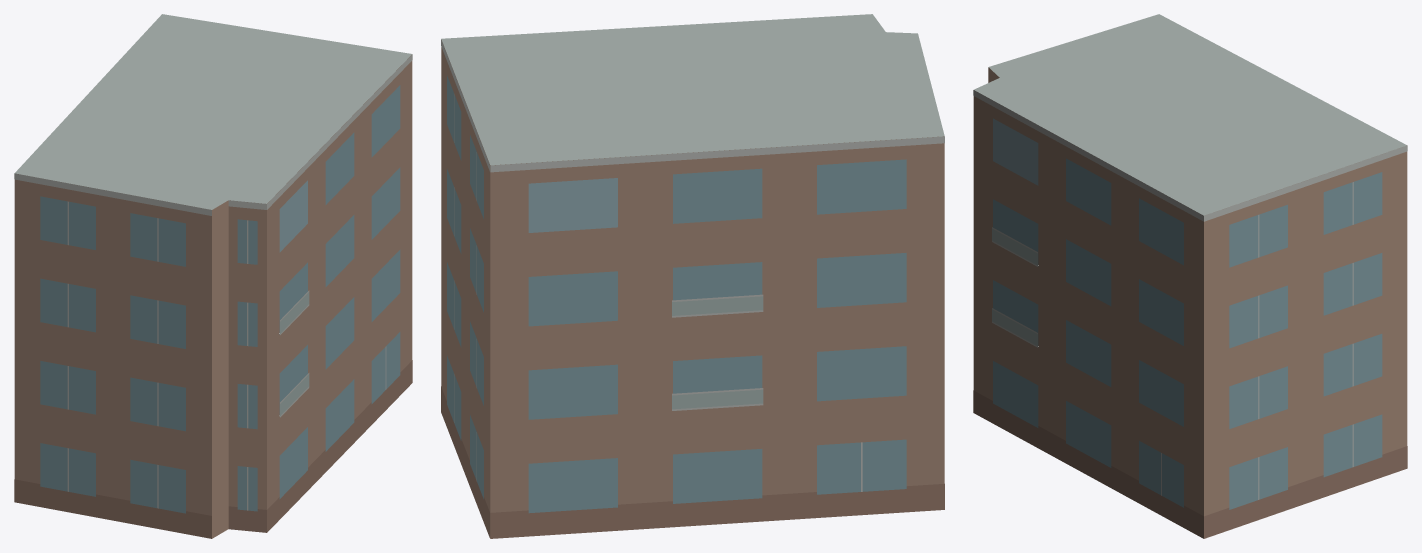
Rendered from survey-upis-32816450.glb.
3 renders of one model, left to right at view 1: azimuth 30°, elevation 25°; view 2: azimuth 150°, elevation 25°; view 3: azimuth 270°, elevation 25°, orthographic. The views are drawn at different scales.
Parts seen in each view (by area): view 1: survey-upis-32816450.tmp; view 2: survey-upis-32816450.tmp; view 3: survey-upis-32816450.tmp.
Part boxes in pixels (x1,y1,x2,y2): survey-upis-32816450.tmp: (14, 14, 412, 538); survey-upis-32816450.tmp: (441, 14, 944, 538); survey-upis-32816450.tmp: (973, 14, 1407, 538).
Size of the model in its own units: 17.48 by 13.05 by 15.89.
